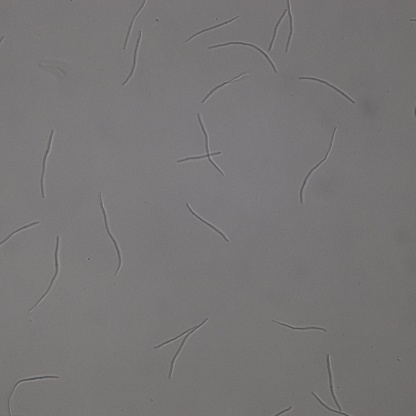Sensitive: (153, 318, 208, 378), (178, 112, 225, 176), (299, 127, 336, 203), (30, 235, 62, 310), (311, 354, 349, 415), (208, 39, 277, 72), (7, 372, 59, 415), (97, 193, 123, 276), (186, 203, 229, 242), (300, 77, 355, 103), (203, 71, 246, 102), (187, 14, 238, 40), (268, 1, 295, 50), (122, 30, 142, 85), (124, 1, 147, 47), (39, 129, 54, 199), (1, 222, 40, 248), (273, 317, 328, 332)
